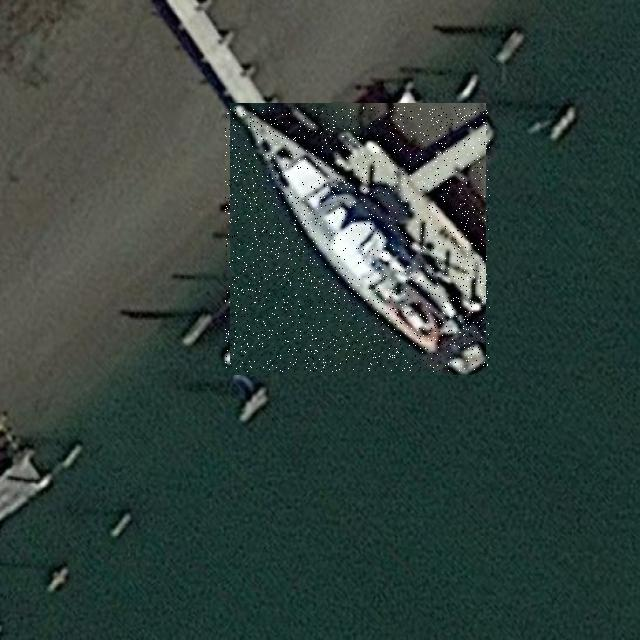boat: (225, 107, 490, 372)
